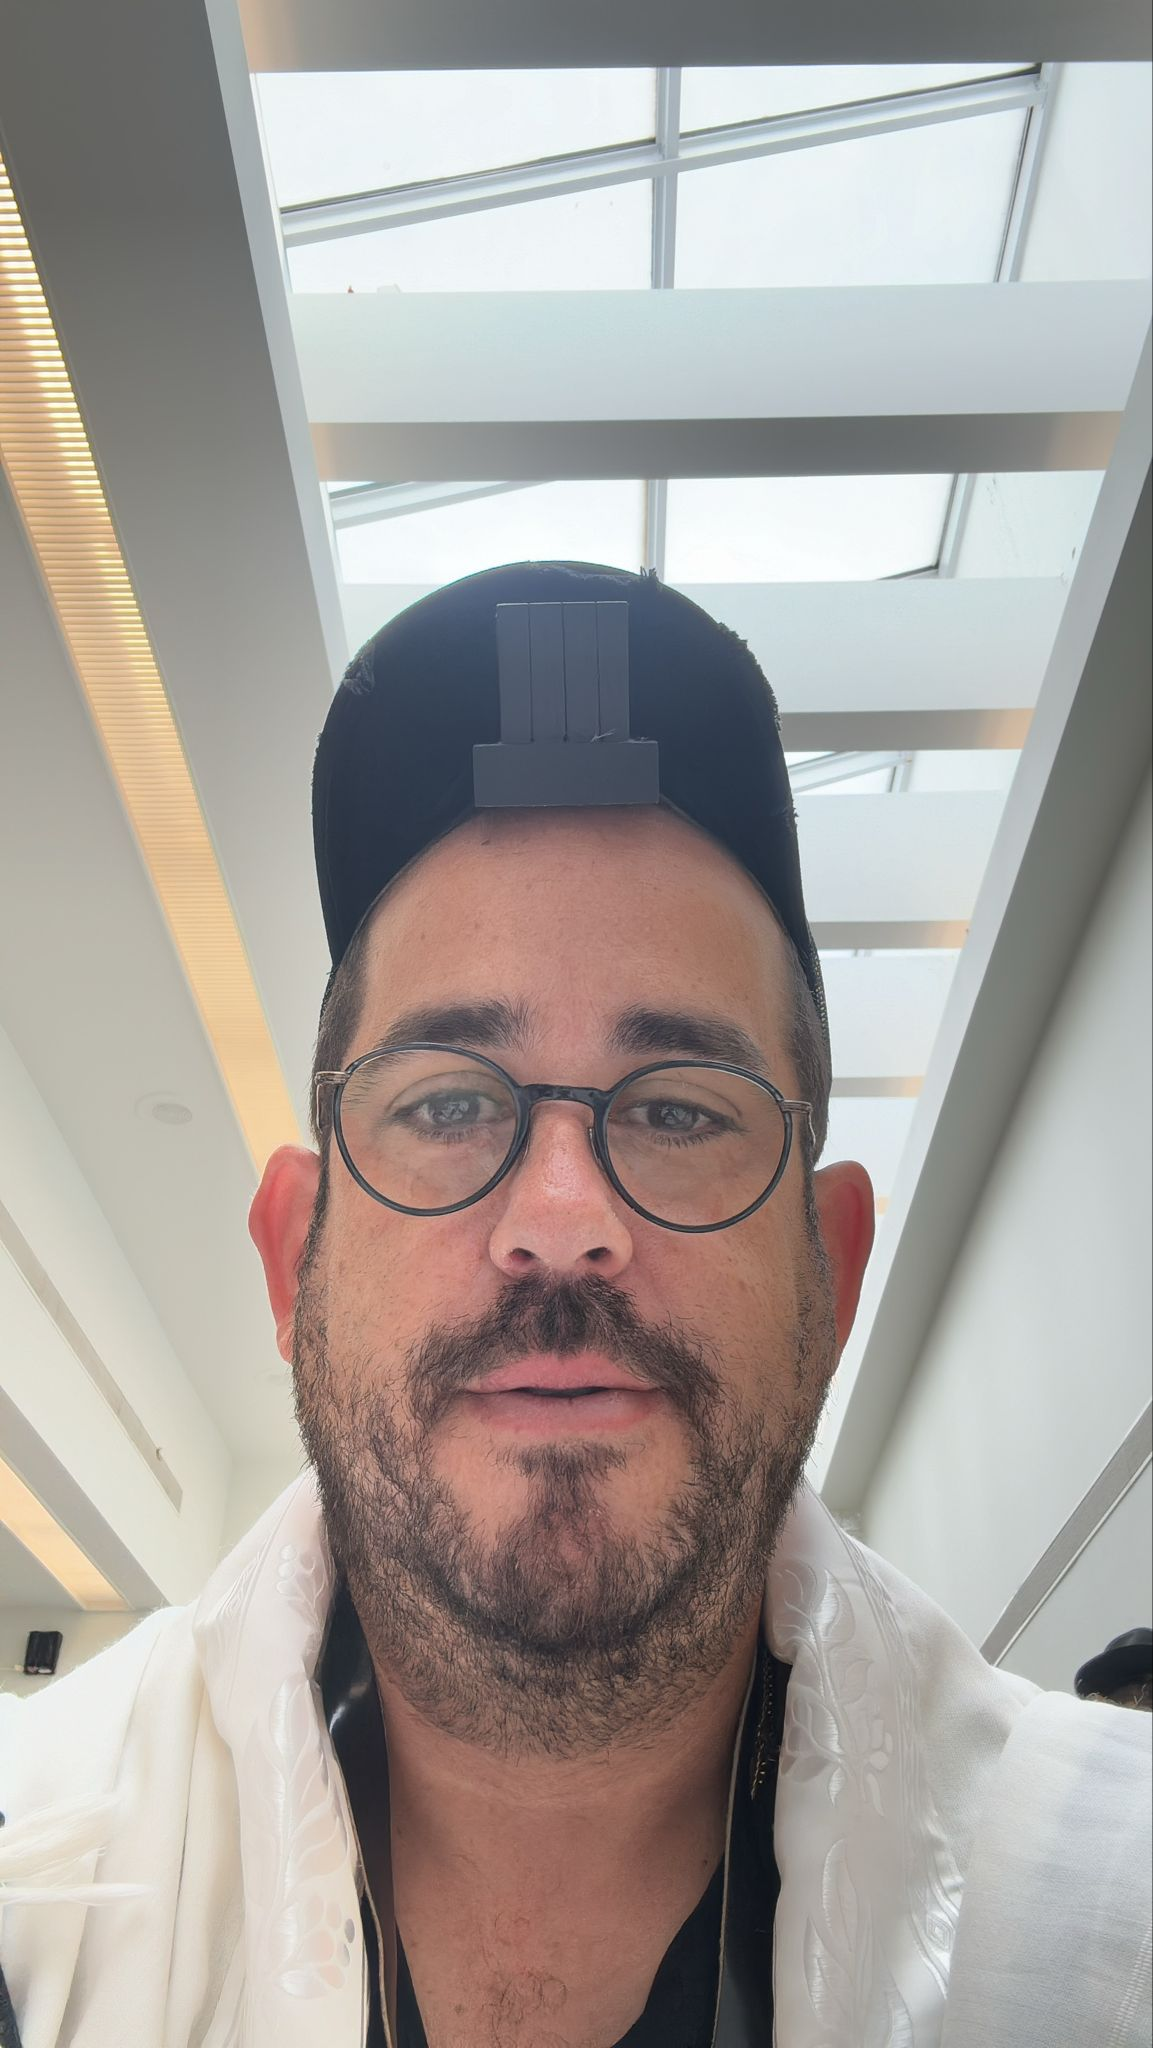tefillin: (463, 603, 668, 812)
